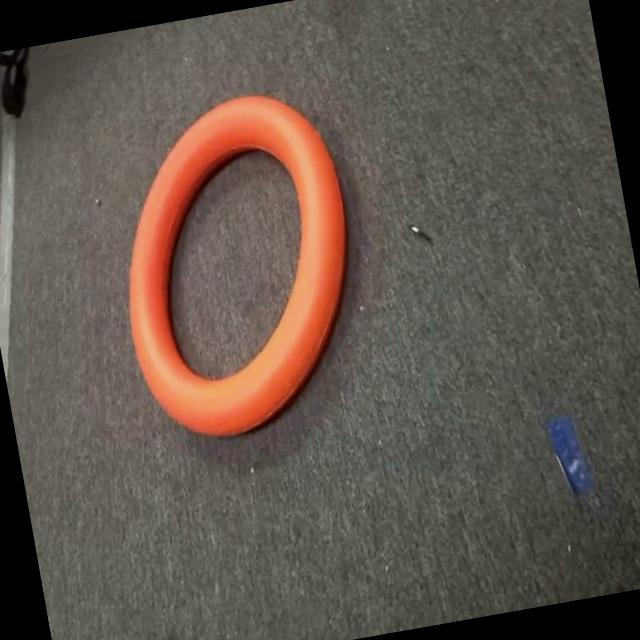note: (83, 73, 400, 463)
